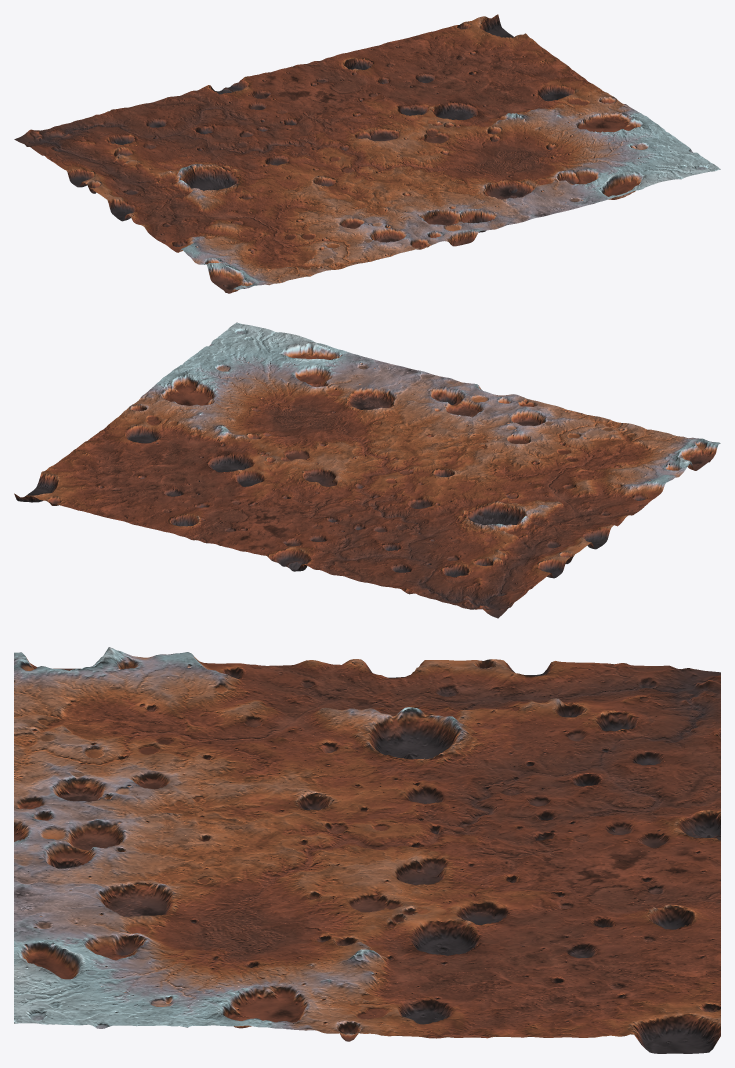
3 views of the same model, one above another, from view 1: azimuth 30°, elevation 25°; view 2: azimuth 150°, elevation 25°; view 3: azimuth 270°, elevation 25° (orthographic). The views are drawn at different scales.
Parts seen in each view (by area): view 1: Mars_MGS_MOLA_DEM_mosaic_global_463m_1; view 2: Mars_MGS_MOLA_DEM_mosaic_global_463m_1; view 3: Mars_MGS_MOLA_DEM_mosaic_global_463m_1.
Part boxes in pixels (x1,y1,x2,y2): Mars_MGS_MOLA_DEM_mosaic_global_463m_1: [14, 14, 720, 293]; Mars_MGS_MOLA_DEM_mosaic_global_463m_1: [14, 322, 720, 618]; Mars_MGS_MOLA_DEM_mosaic_global_463m_1: [14, 647, 720, 1053].
Size of the model in its own units: 100 by 4.95 by 79.69.
1 material, 1 textured.
